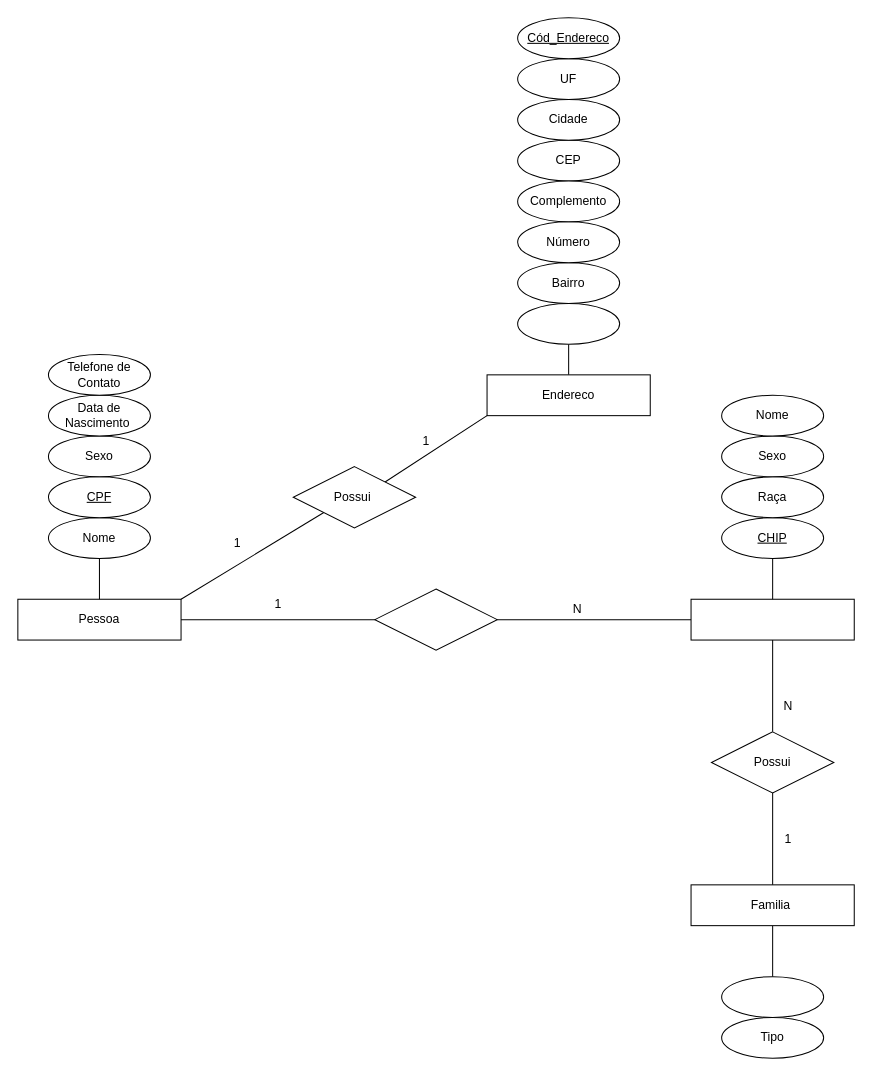
The diagram is 872 pixels wide and 1076 high, and some of its shapes have lost their labels. The shapes that lost their labels are listed below. From the top down, each one's centre as x and y in pixels, then its label:
[568,323]: Logradouro
[435,619]: Adota
[772,619]: Animal
[772,996]: Cód_Familia
